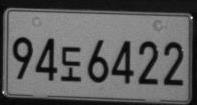2: (163, 41, 184, 85), (138, 40, 158, 84)
4: (34, 38, 58, 81), (111, 40, 134, 84)
6: (87, 39, 109, 83)
9: (11, 35, 33, 80)
도: (61, 45, 82, 82)
